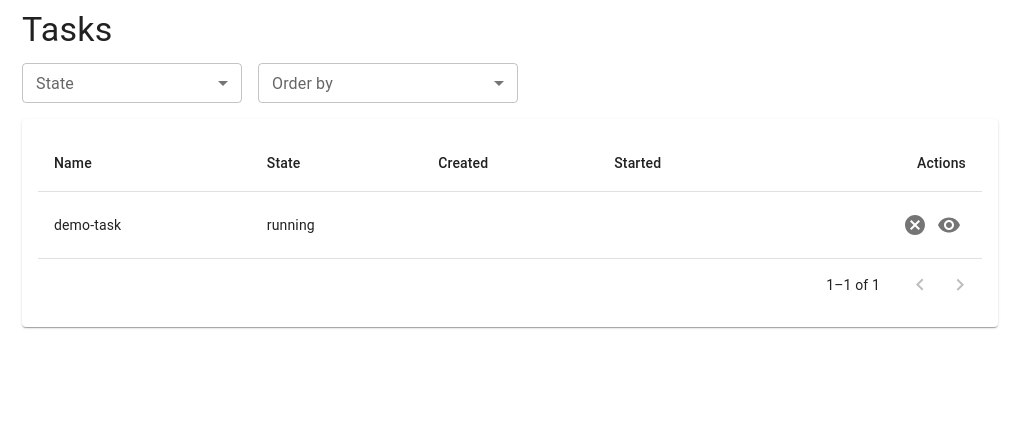
Test: Tasks › filters tasks by state
Check: the text "demo-task" is shown, box [38, 191, 251, 258]
Click the 1st dropdown named "state" at x=132, y=83, box [22, 63, 242, 103]
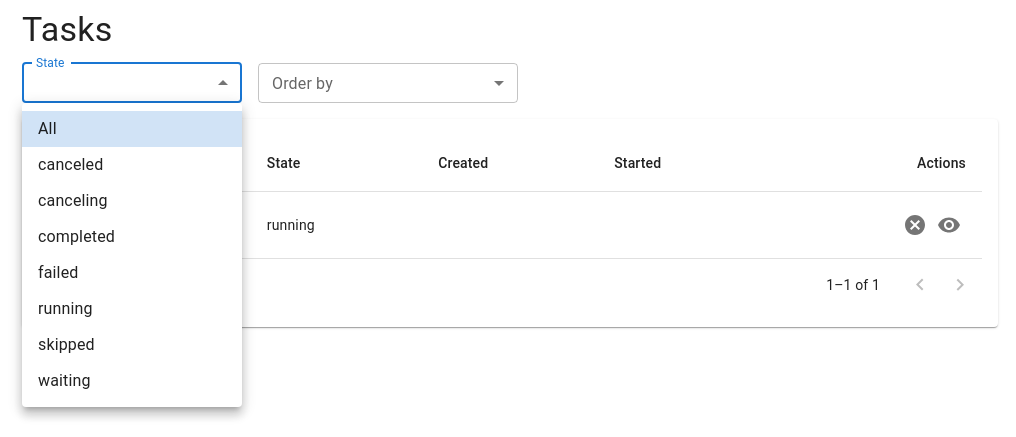
Click the option "failed" at x=58, y=272, box [38, 263, 78, 282]
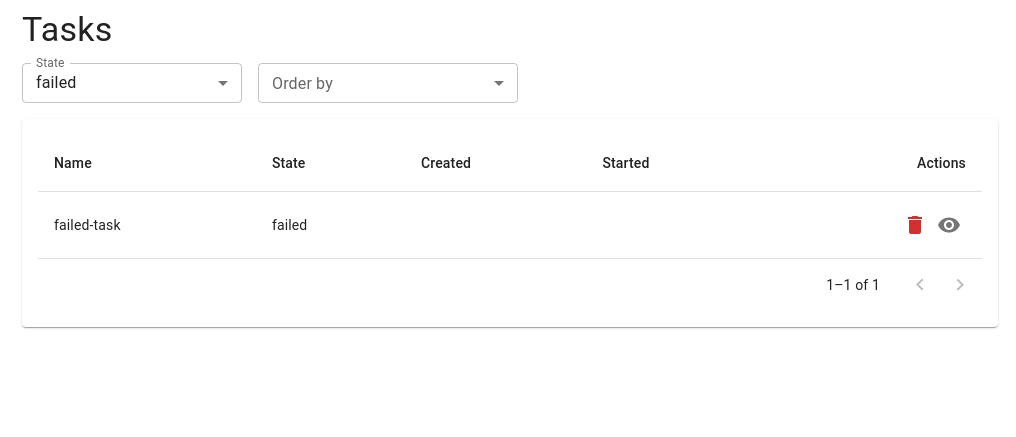
Check: the text "failed-task" is shown, box [38, 191, 256, 258]
Check: the dropdown named "state" reads "failed", box [36, 73, 76, 92]
Check: the cell "failed" is shown, box [256, 191, 405, 258]
